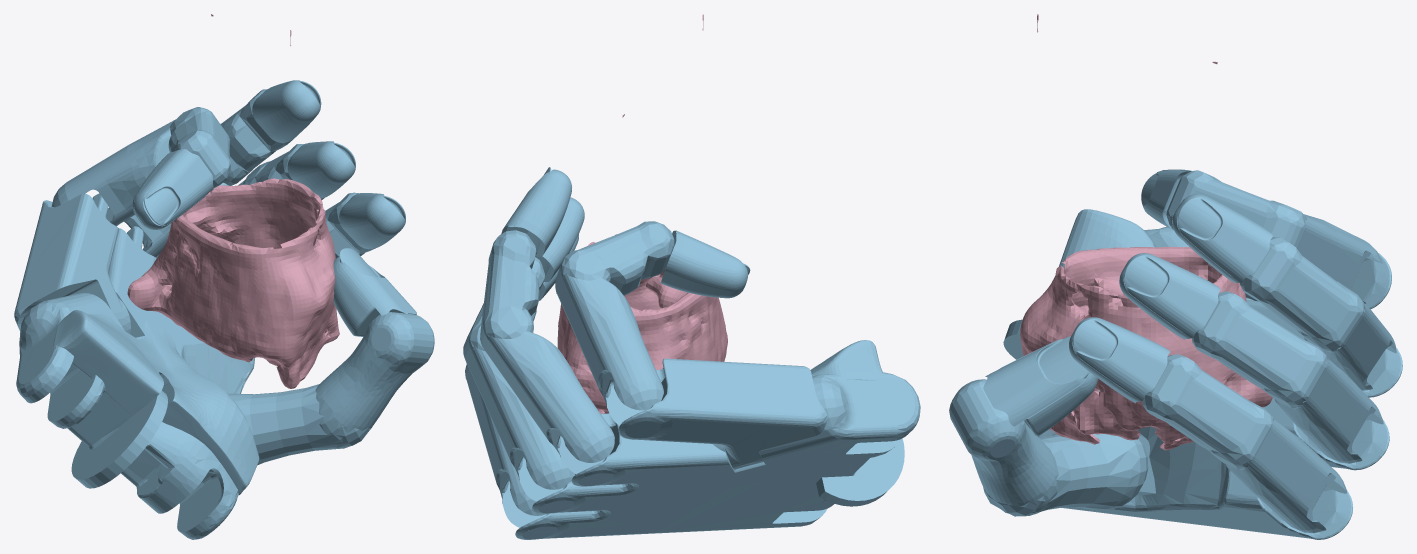
3 views of the same model, side by side, from view 1: azimuth 30°, elevation 25°; view 2: azimuth 150°, elevation 25°; view 3: azimuth 270°, elevation 25° (orthographic). The views are drawn at different scales.
Visible parts, largest first — view 1: hand, world; view 2: hand, world; view 3: hand, world.
Boxes of the visible parts, bbox=[...] form: hand: bbox=[14, 80, 434, 539]; world: bbox=[127, 14, 339, 388]; hand: bbox=[463, 167, 920, 539]; world: bbox=[557, 14, 727, 413]; hand: bbox=[949, 169, 1402, 539]; world: bbox=[1020, 14, 1272, 450].
Size of the model in its own units: 0.1439 by 0.1679 by 0.1268.
